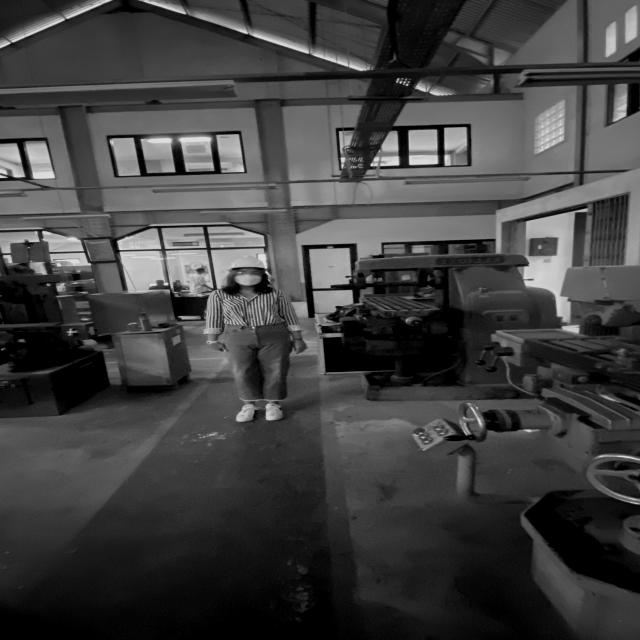face_mask: (232, 270, 262, 286)
glasses: (234, 268, 266, 275)
hand_noglove: (288, 338, 310, 354), (209, 341, 231, 353)
head_helmet: (227, 255, 268, 270)
shoes: (233, 402, 261, 424), (262, 402, 286, 421)
